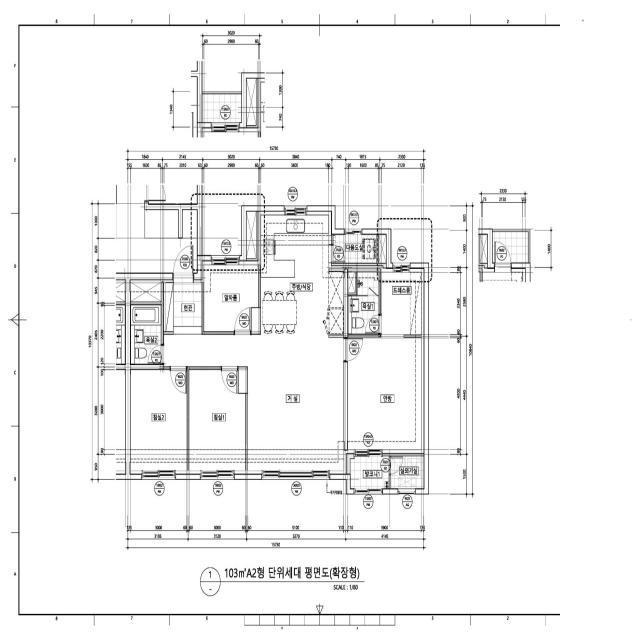space_balconi: (350, 456, 389, 488)
space_bedroom: (348, 337, 424, 453), (130, 370, 187, 474), (189, 370, 245, 474)
space_dressroom: (381, 269, 424, 335)
space_elevator_hall: (116, 184, 197, 273)
space_front: (164, 278, 202, 335)
space_kitchen: (258, 211, 344, 335)
space_living_room: (164, 335, 346, 474)
space_multipurpose_space: (333, 235, 377, 263)
space_other: (202, 261, 258, 331), (130, 280, 162, 302), (246, 211, 256, 259), (379, 235, 386, 263), (348, 271, 355, 293)
space_outdoor_room: (391, 456, 424, 488)
space_toilet: (348, 271, 379, 334), (131, 304, 162, 364)
